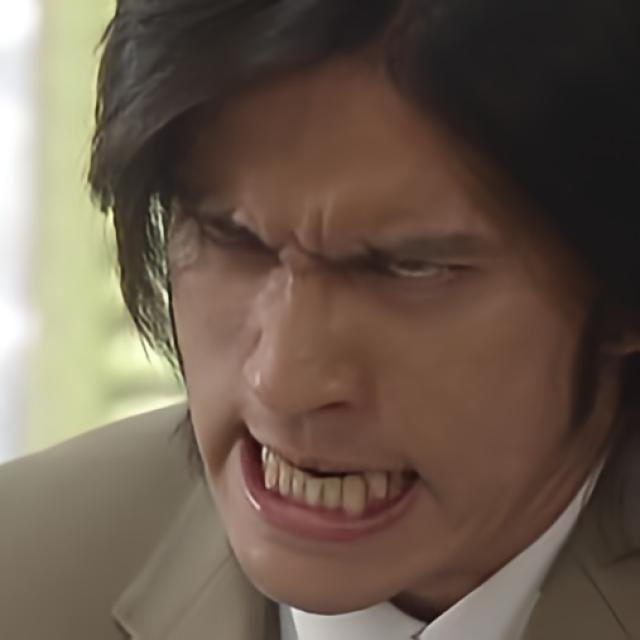anger: (170, 35, 581, 612)
